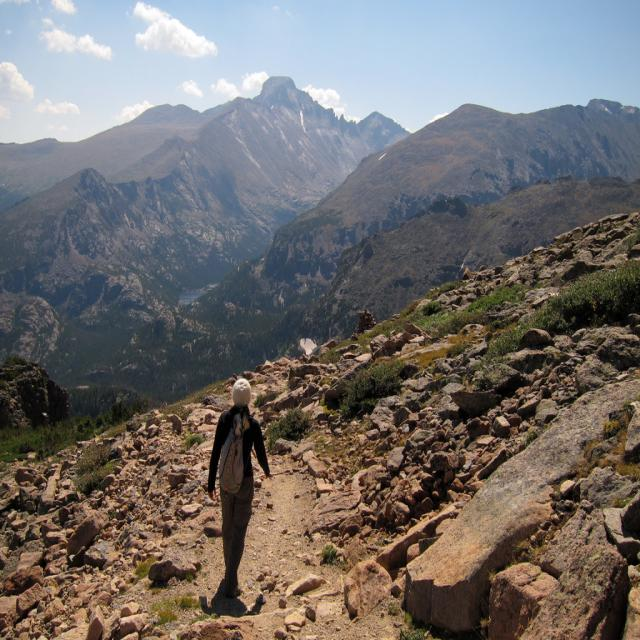backpack: (216, 410, 251, 498)
